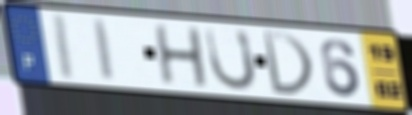6: (318, 37, 363, 99)
D: (259, 29, 317, 99)
H: (151, 23, 212, 90)
I: (90, 16, 118, 84), (53, 11, 78, 83)
U: (202, 25, 259, 93)
